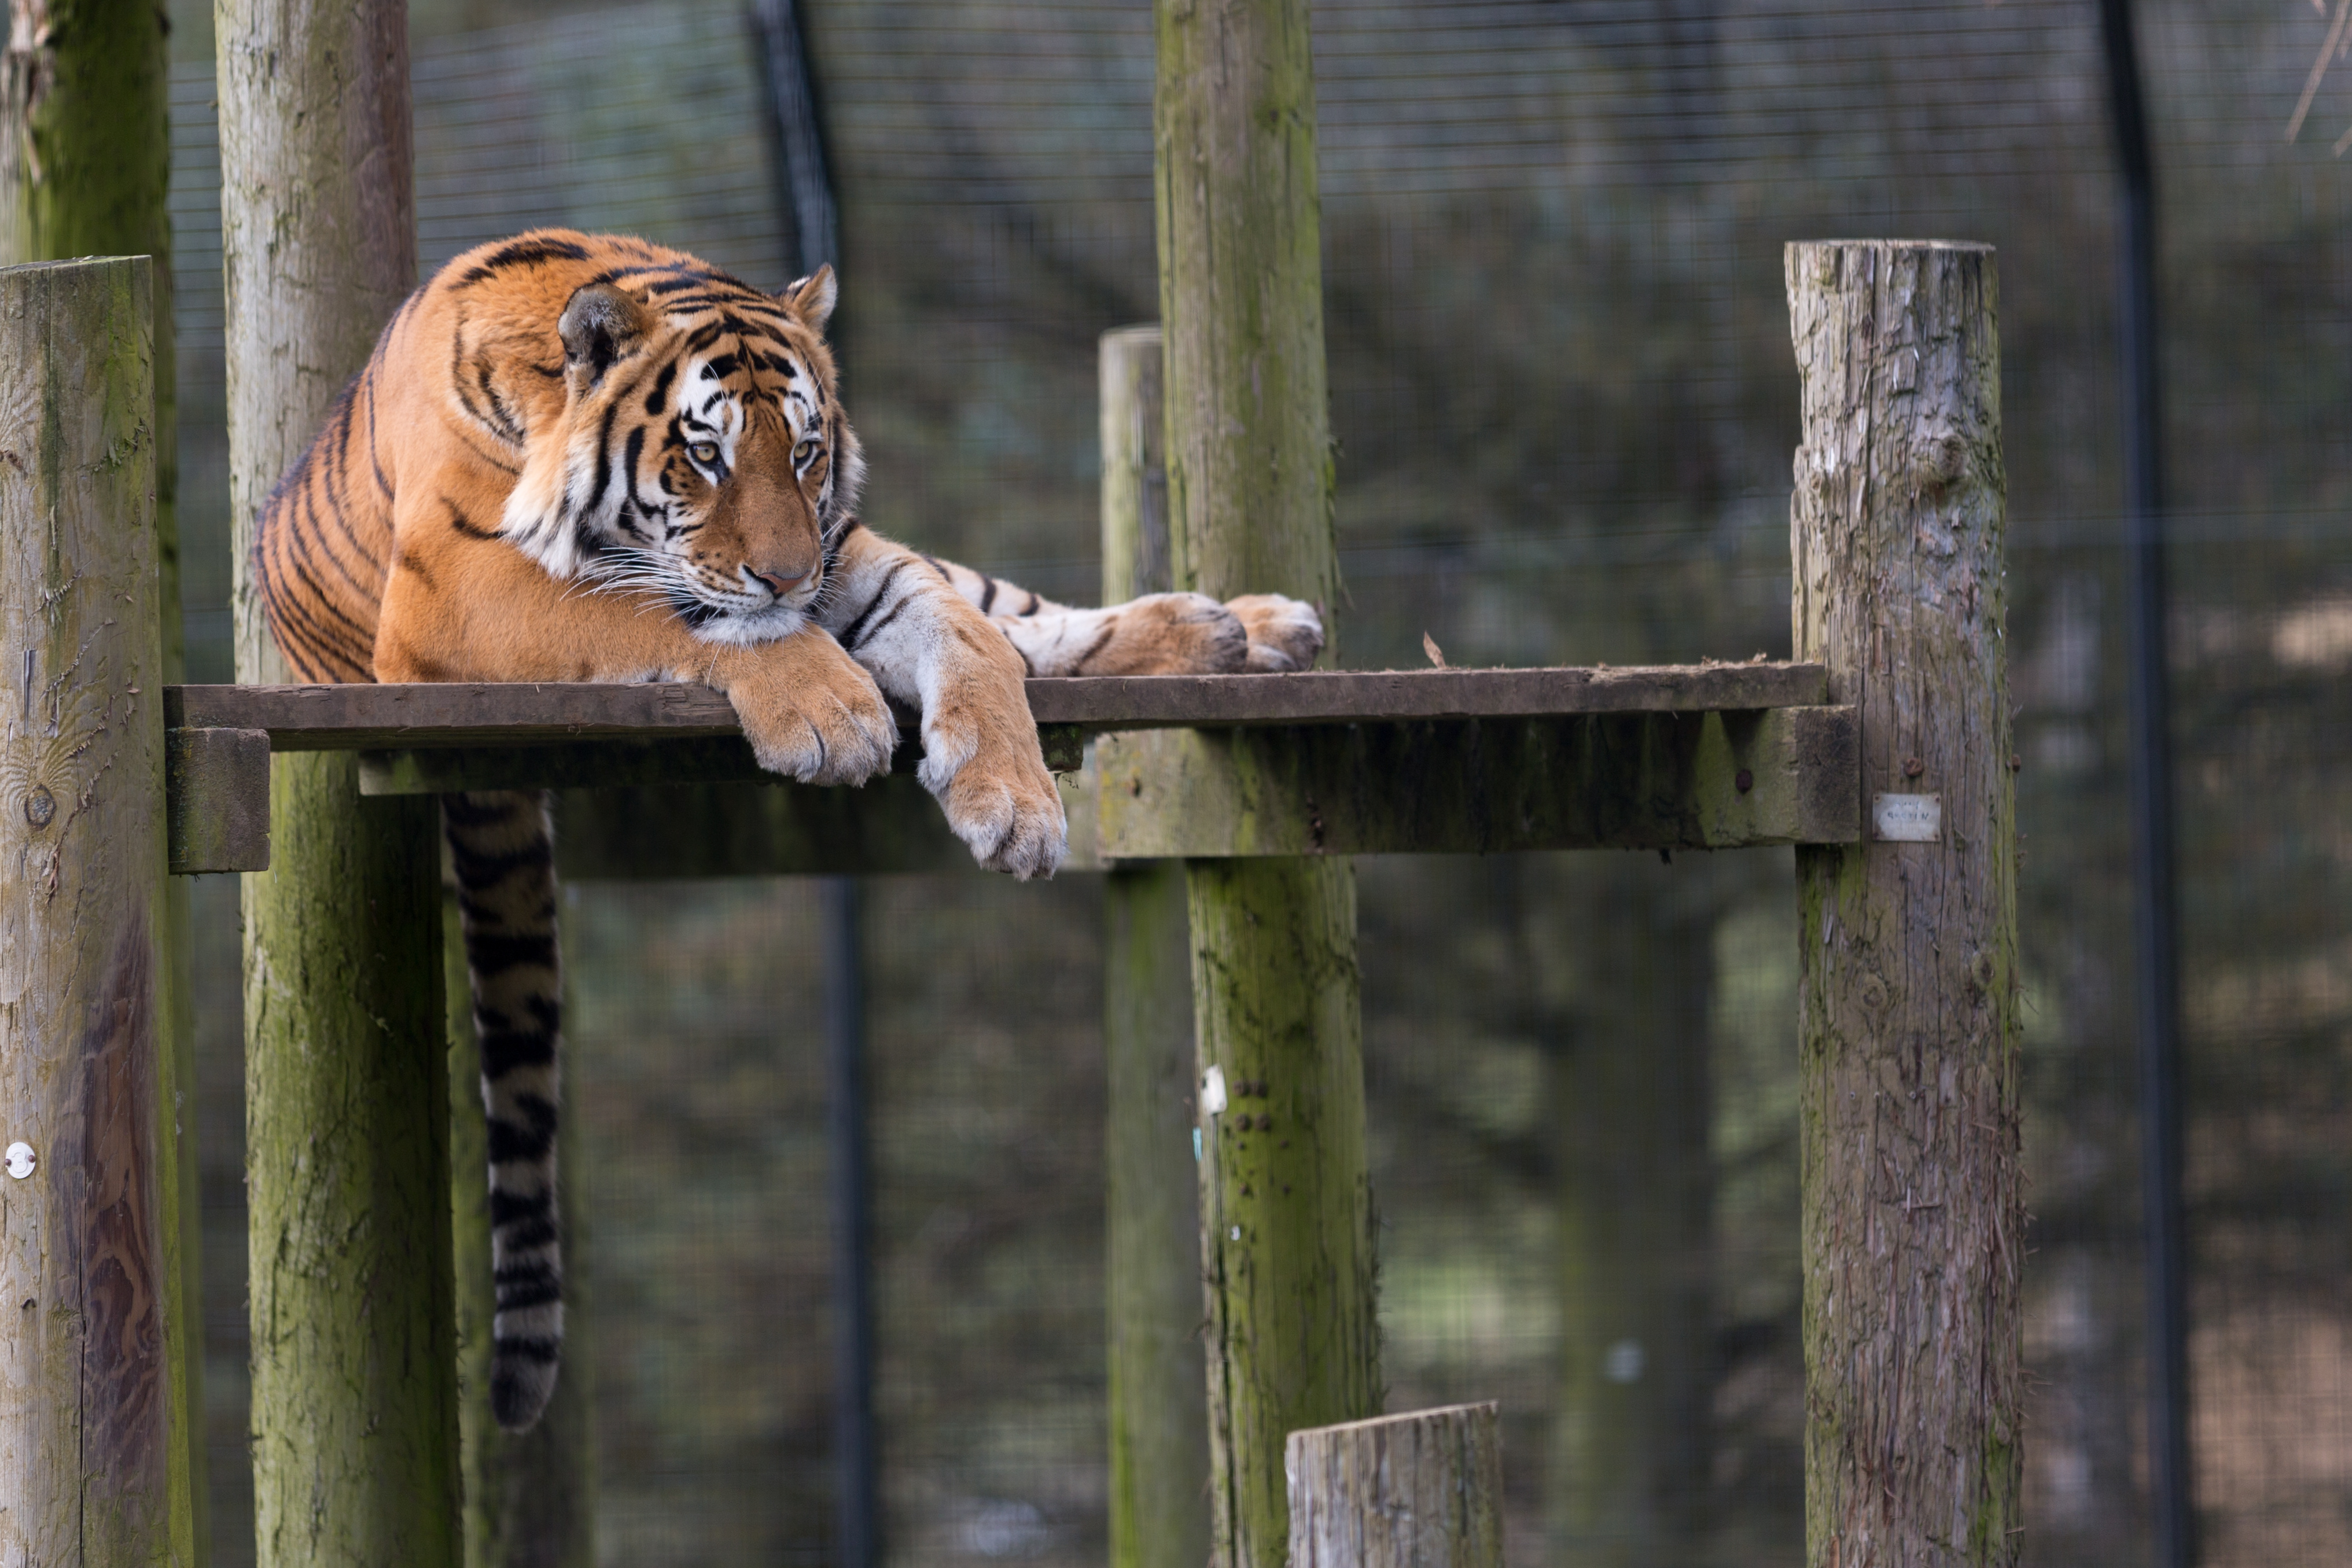tiger: (266, 214, 1351, 928)
